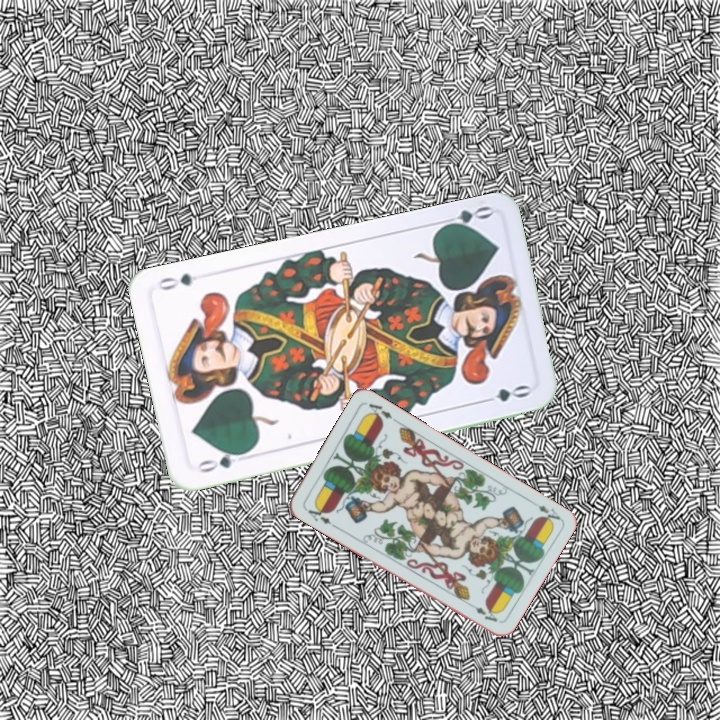EA: (301, 500, 338, 530), (526, 497, 563, 527)
GO: (435, 201, 494, 232), (191, 448, 249, 476)
